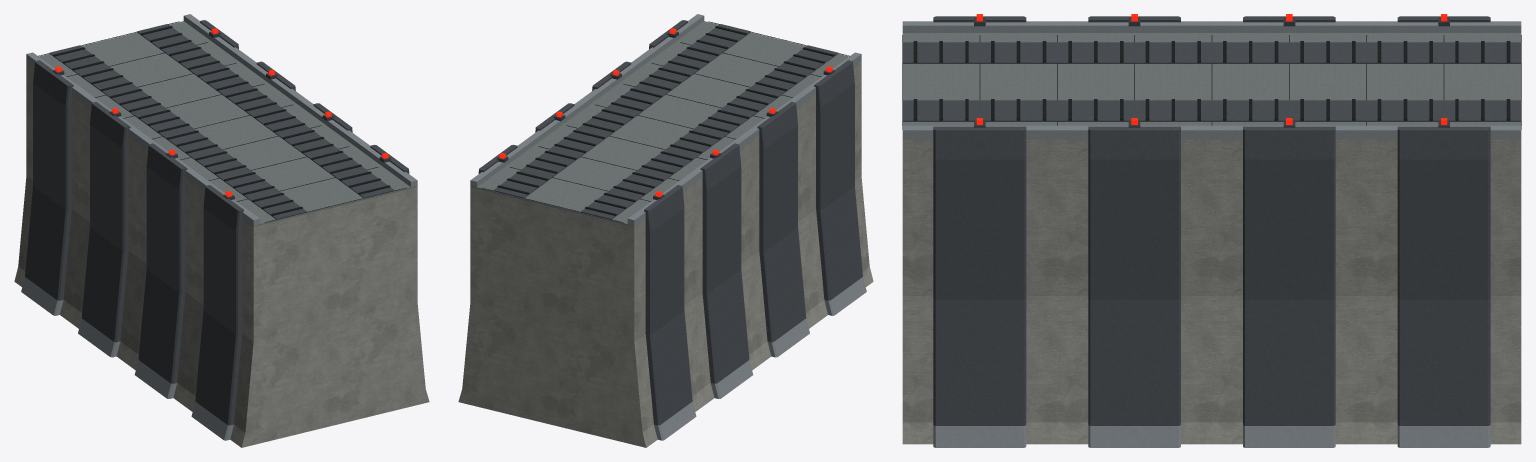
Rendered from straight.glb.
3 views of the same model, side by side, from view 1: azimuth 30°, elevation 25°; view 2: azimuth 150°, elevation 25°; view 3: azimuth 270°, elevation 25° (orthographic). The views are drawn at different scales.
Visible parts, largest first — view 1: straight-lod0-roof0, straight-lod0-base0, straight-lod0-floor0; view 2: straight-lod0-roof0, straight-lod0-base0, straight-lod0-floor0; view 3: straight-lod0-base0, straight-lod0-floor0, straight-lod0-roof0.
Part boxes in pixels (bbox=[...]): straight-lod0-roof0: bbox=[26, 14, 417, 238]; straight-lod0-base0: bbox=[14, 176, 429, 447]; straight-lod0-floor0: bbox=[26, 73, 417, 341]; straight-lod0-roof0: bbox=[470, 14, 861, 238]; straight-lod0-base0: bbox=[458, 176, 873, 447]; straight-lod0-floor0: bbox=[470, 73, 861, 341]; straight-lod0-base0: bbox=[902, 296, 1521, 447]; straight-lod0-floor0: bbox=[902, 156, 1521, 299]; straight-lod0-roof0: bbox=[902, 14, 1521, 159].
Size of what is drawn, in the model's own units: 36.4 by 40.38 by 72.08.
7 materials, 7 textured.
